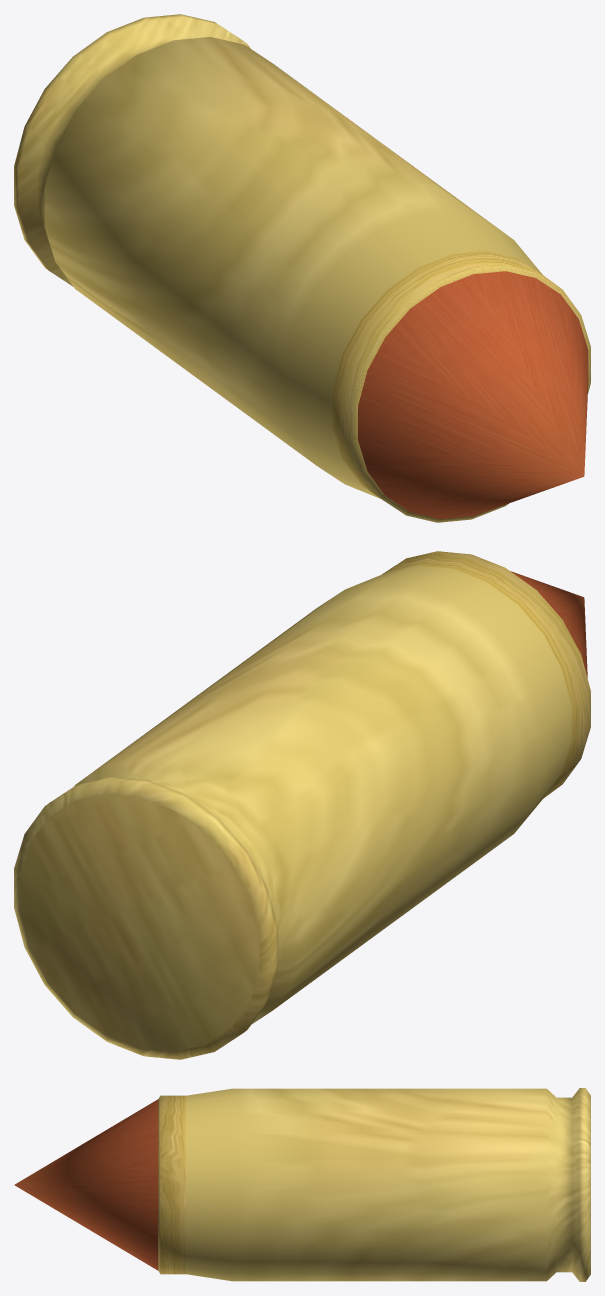
File: projectile-bullet.fbx
The picture shows the model from 3 angles, top to bottom: view 1: azimuth 30°, elevation 25°; view 2: azimuth 150°, elevation 25°; view 3: azimuth 270°, elevation 25°; orthographic projection. The views are drawn at different scales.
Visible parts, largest first — view 1: bullet; view 2: bullet; view 3: bullet.
Boxes of the visible parts, box(x1,y1,x2,y2) form: bullet: box(14, 14, 590, 522); bullet: box(14, 551, 590, 1059); bullet: box(14, 1088, 590, 1281).
Size of the model in its own units: 50.56 by 150 by 50.79.
